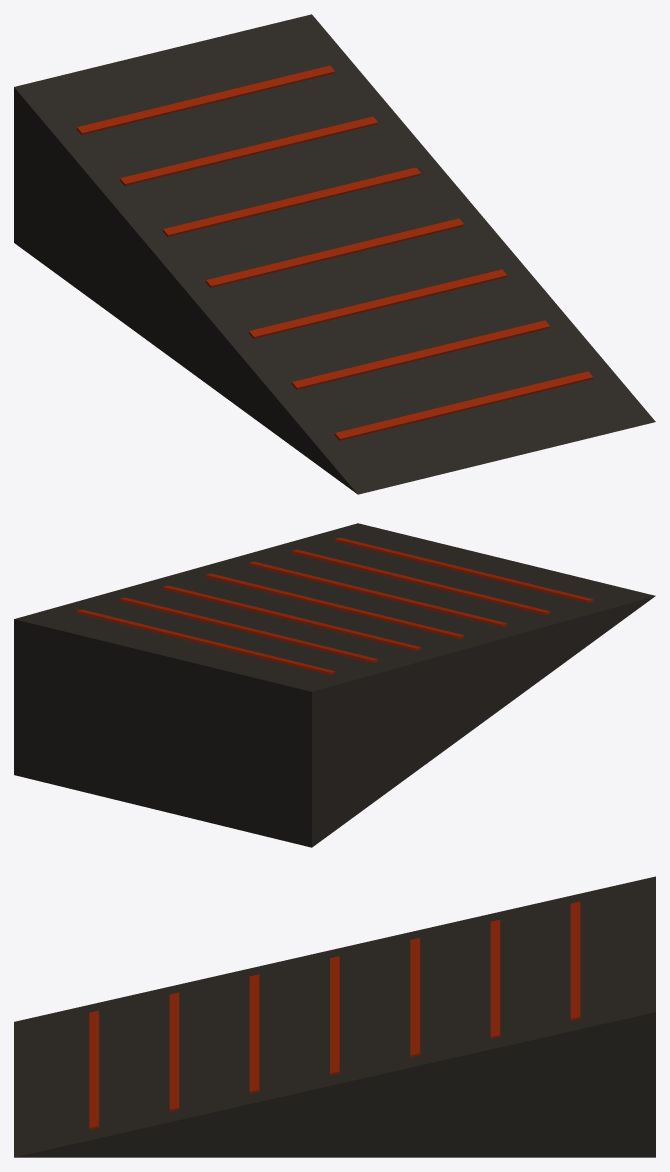
File: SM_Ramp_2x4_Rise1_Hideout.glb
The picture shows the model from 3 angles, top to bottom: view 1: azimuth 30°, elevation 25°; view 2: azimuth 150°, elevation 25°; view 3: azimuth 270°, elevation 25°; orthographic projection. The views are drawn at different scales.
Visible parts, largest first — view 1: SM_Ramp_2x4_Rise1_Hideout-col; view 2: SM_Ramp_2x4_Rise1_Hideout-col; view 3: SM_Ramp_2x4_Rise1_Hideout-col.
Part boxes in pixels (x1,y1,x2,y2): SM_Ramp_2x4_Rise1_Hideout-col: (14,14,655,494); SM_Ramp_2x4_Rise1_Hideout-col: (14,523,655,847); SM_Ramp_2x4_Rise1_Hideout-col: (14,876,655,1157).
Bounding box in the file's own units: 2 × 1 × 4.
